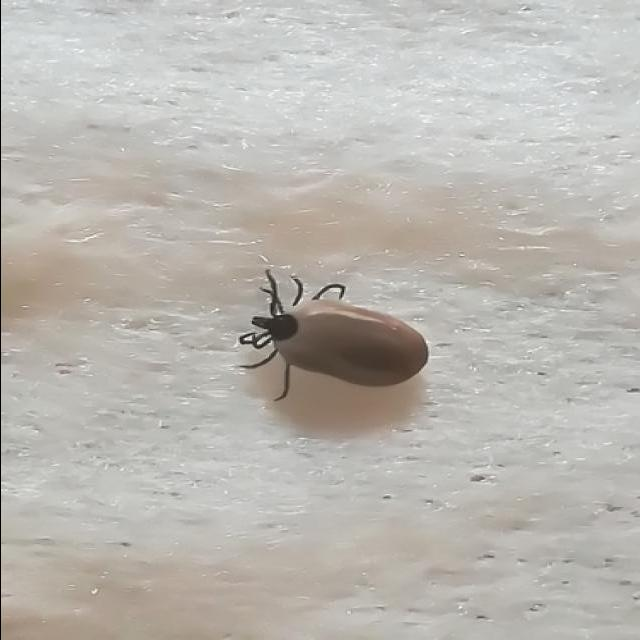Ixodes Ricinus-F: (237, 269, 428, 402)
